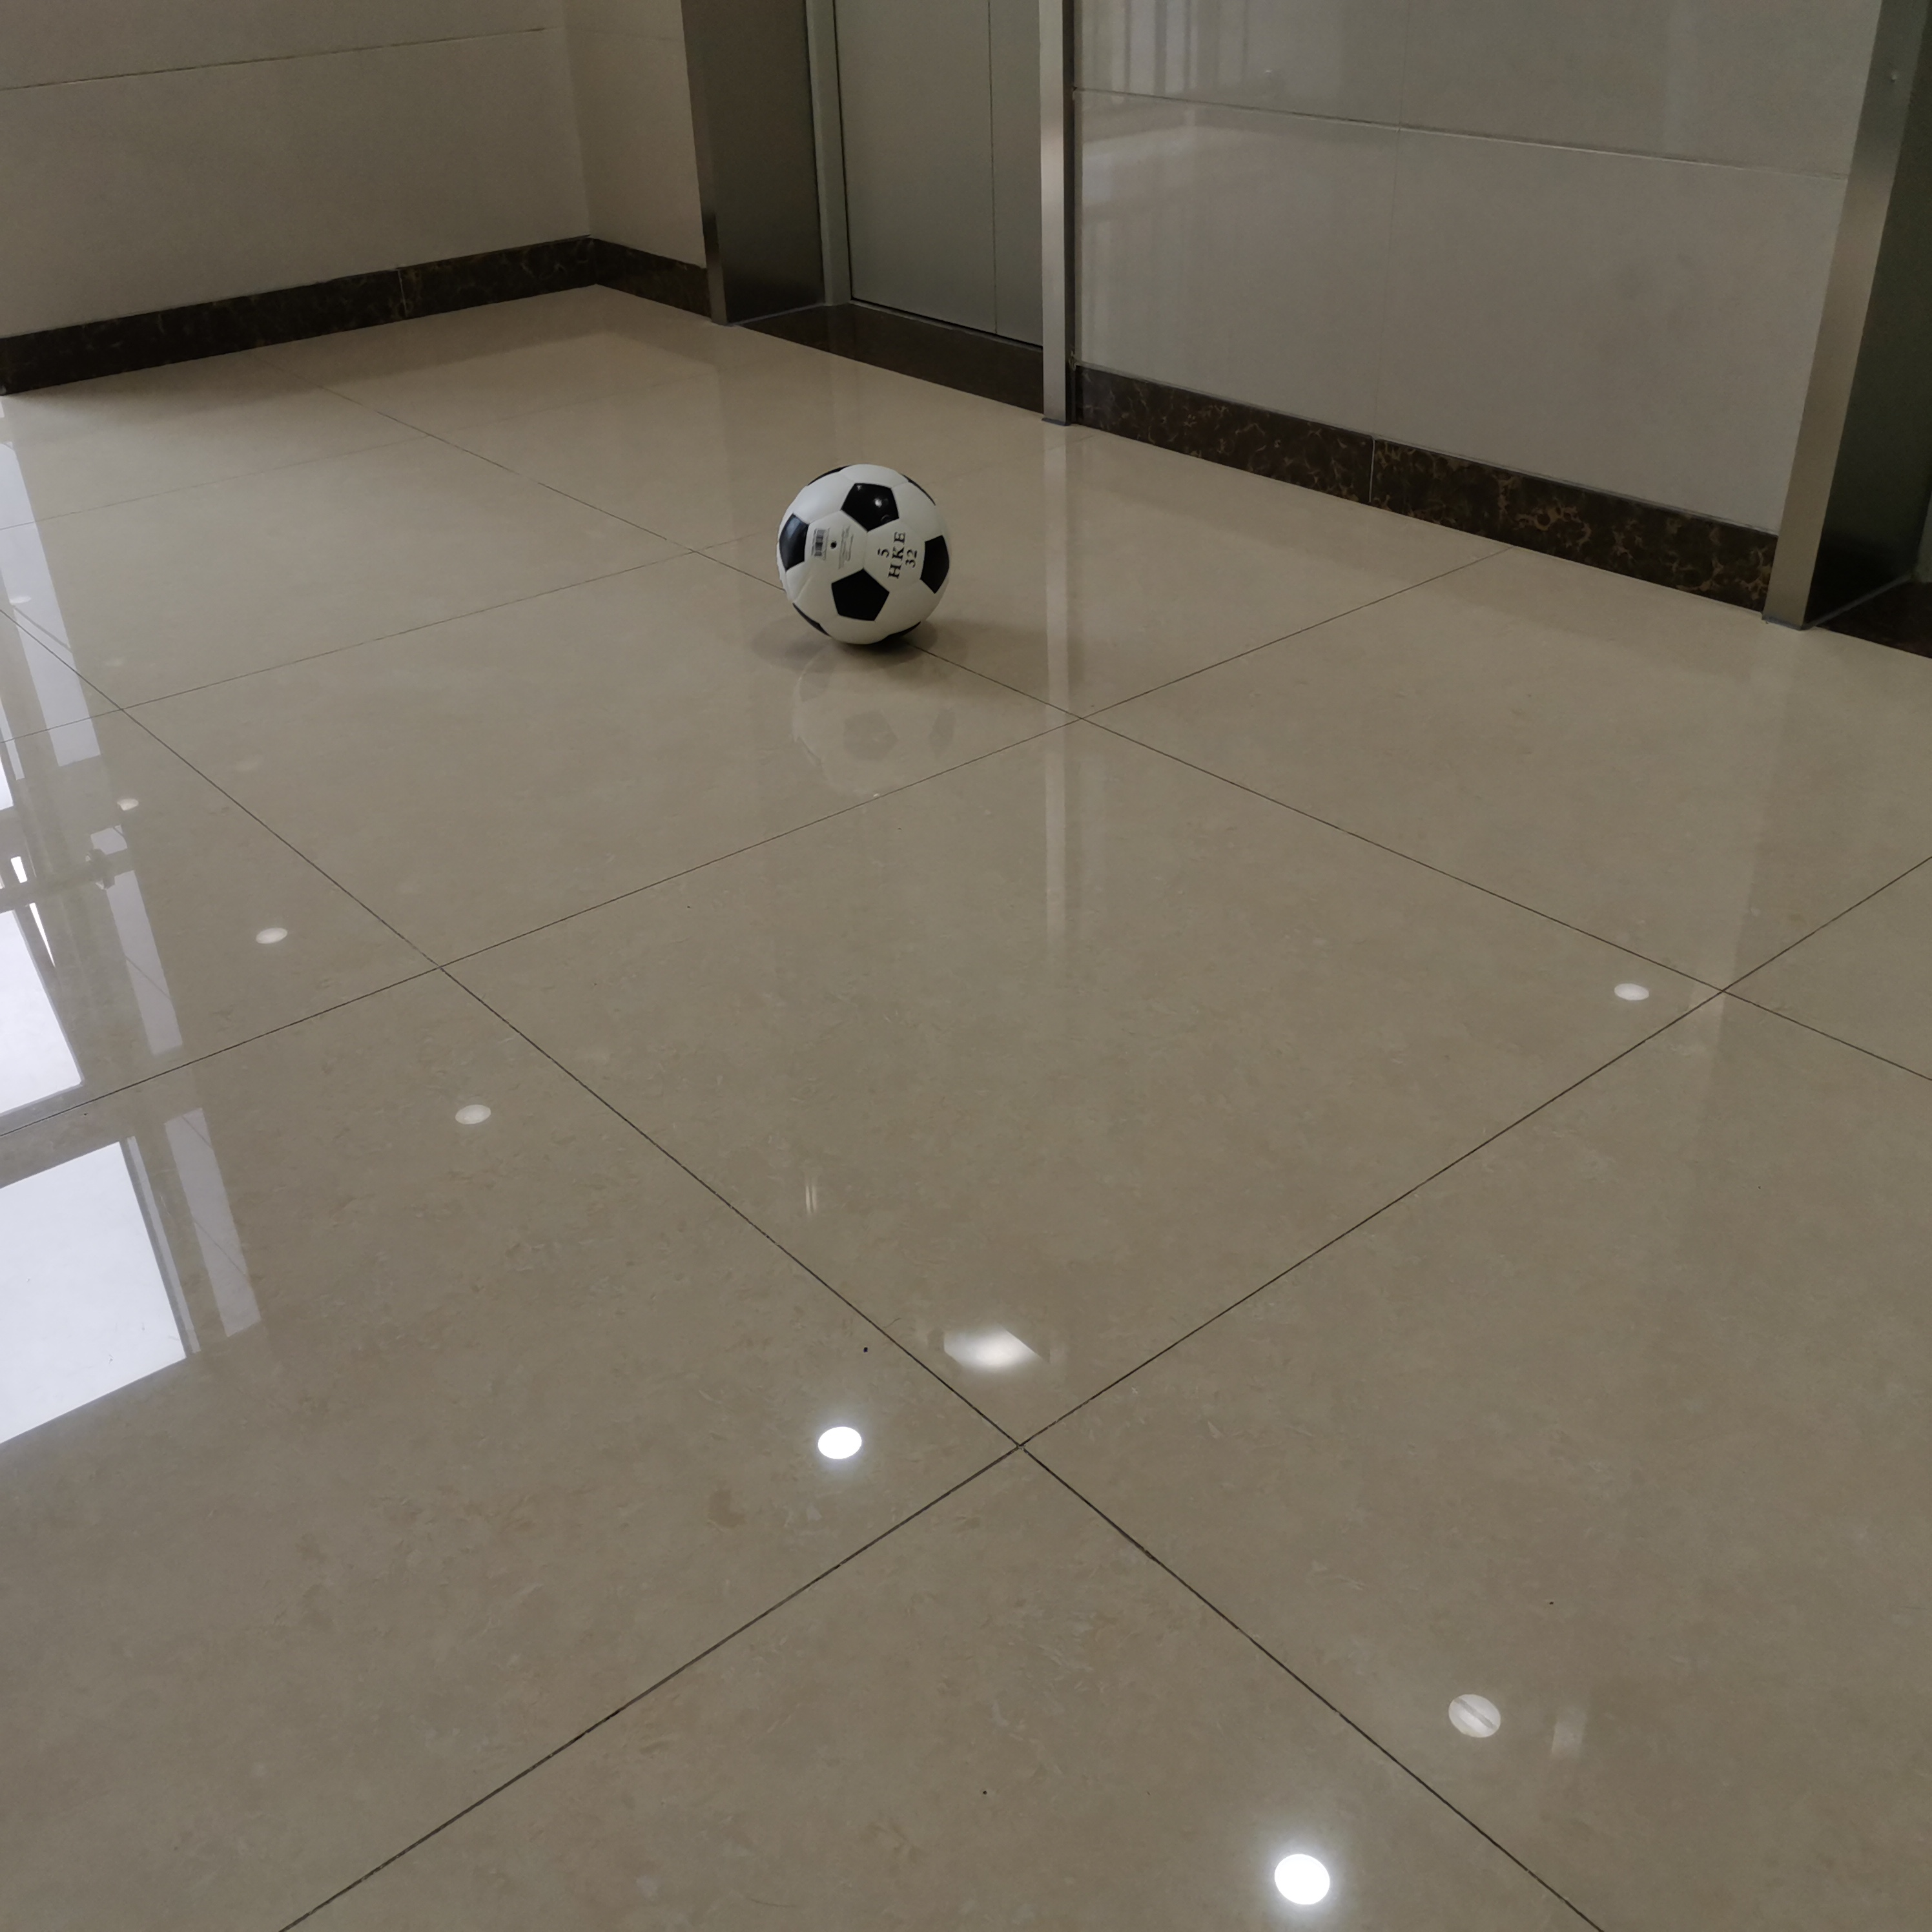football: (775, 464, 950, 648)
